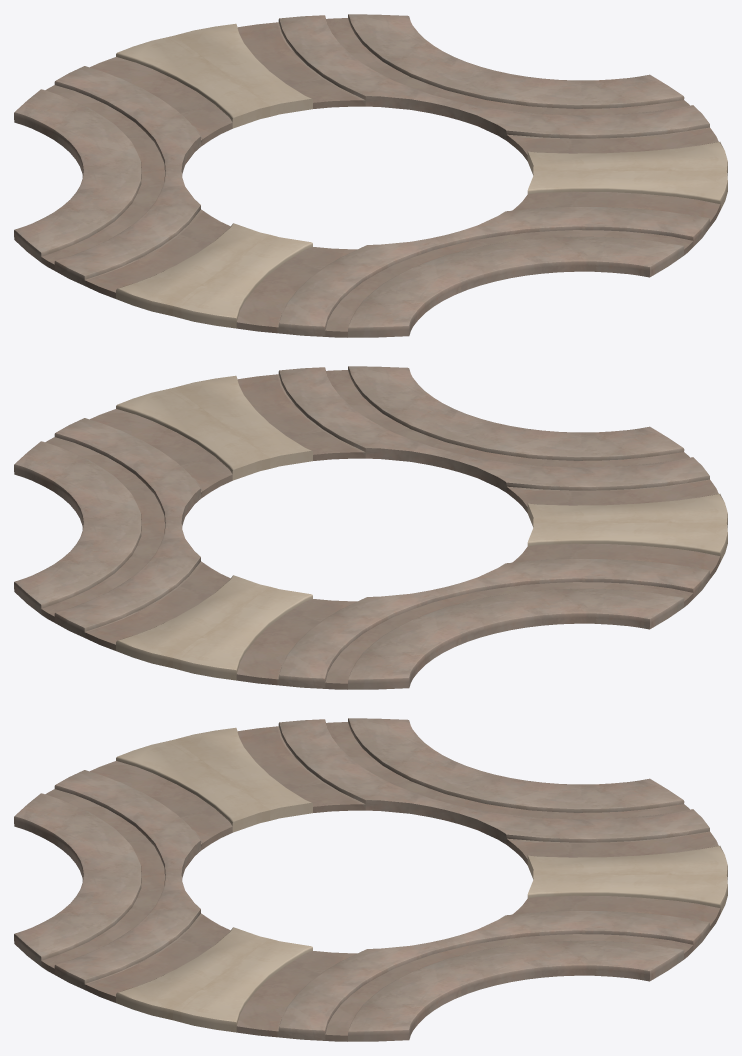
Rendered from CenterOuterRim.fbx.
The picture shows the model from 3 angles, top to bottom: view 1: azimuth 30°, elevation 25°; view 2: azimuth 150°, elevation 25°; view 3: azimuth 270°, elevation 25°; orthographic projection.
Parts seen in each view (by area): view 1: CenterModule002; view 2: CenterModule002; view 3: CenterModule002.
Part boxes in pixels (<box>): CenterModule002: <box>14,14,727,337</box>; CenterModule002: <box>14,366,727,689</box>; CenterModule002: <box>14,718,727,1041</box>.
Bounding box in the file's own units: 1684 × 26.65 × 1620.
